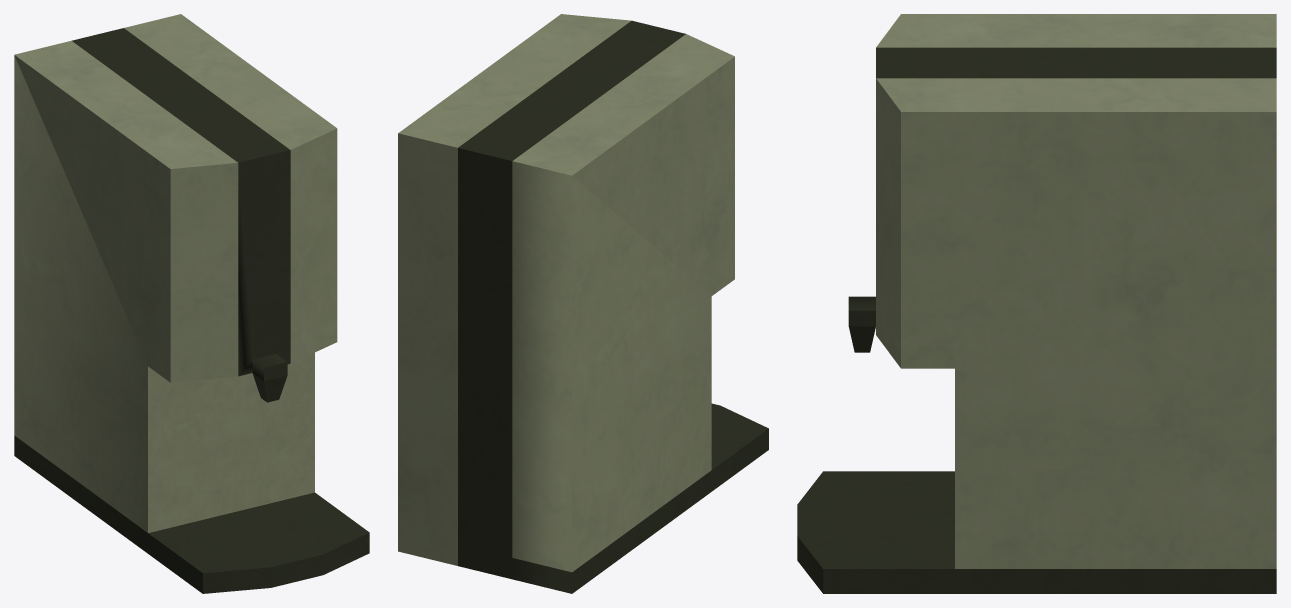
Rendered from LGSeochoB1ConvenienceStoreDrink.fbx.
3 views of the same model, side by side, from view 1: azimuth 30°, elevation 25°; view 2: azimuth 150°, elevation 25°; view 3: azimuth 270°, elevation 25° (orthographic). The views are drawn at different scales.
Parts seen in each view (by area): view 1: LGSeochoB1ConvenienceStorePlastic; view 2: LGSeochoB1ConvenienceStorePlastic; view 3: LGSeochoB1ConvenienceStorePlastic.
Part boxes in pixels (<box>): LGSeochoB1ConvenienceStorePlastic: <box>14,14,369,593</box>; LGSeochoB1ConvenienceStorePlastic: <box>398,14,768,593</box>; LGSeochoB1ConvenienceStorePlastic: <box>797,14,1276,593</box>.
Size of the model in its own units: 22.73 by 52.19 by 47.06.
Materials: 1 (1 with a texture image).
